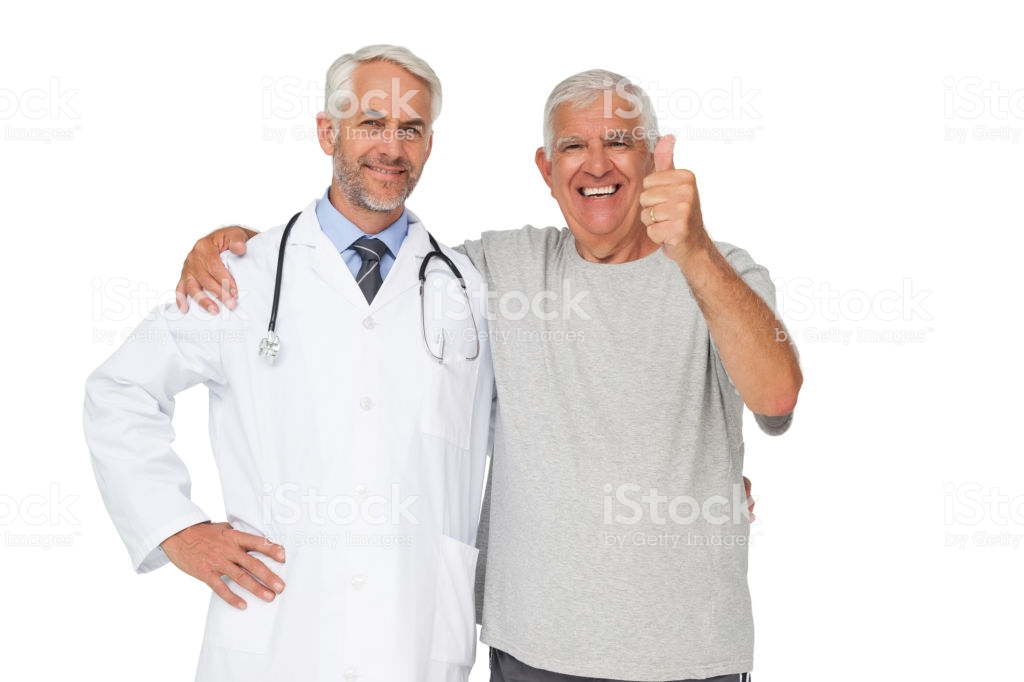thumbsup: (638, 133, 698, 251)
